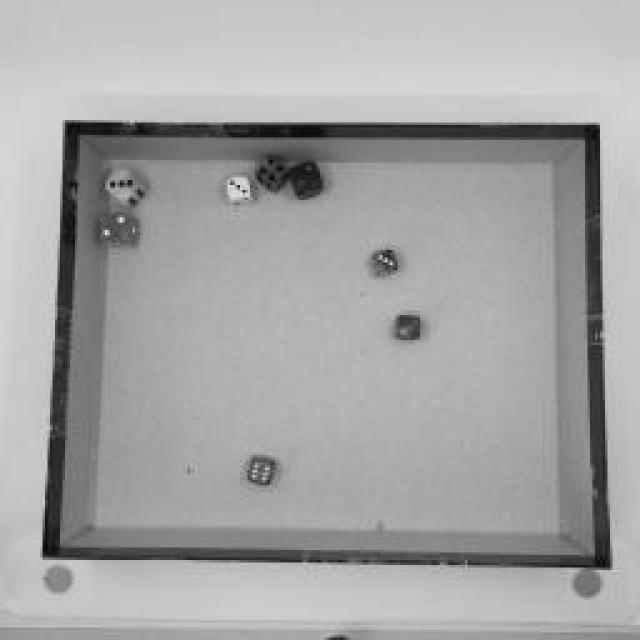dice_2: (98, 212, 140, 252), (287, 161, 325, 204), (394, 311, 424, 349)
dice_3: (102, 168, 150, 208), (225, 175, 255, 210), (374, 248, 398, 280)
dice_4: (256, 156, 289, 196)
dice_6: (245, 456, 275, 489)
